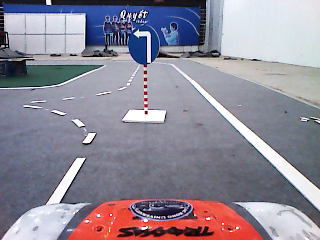turn: (127, 23, 161, 66)
